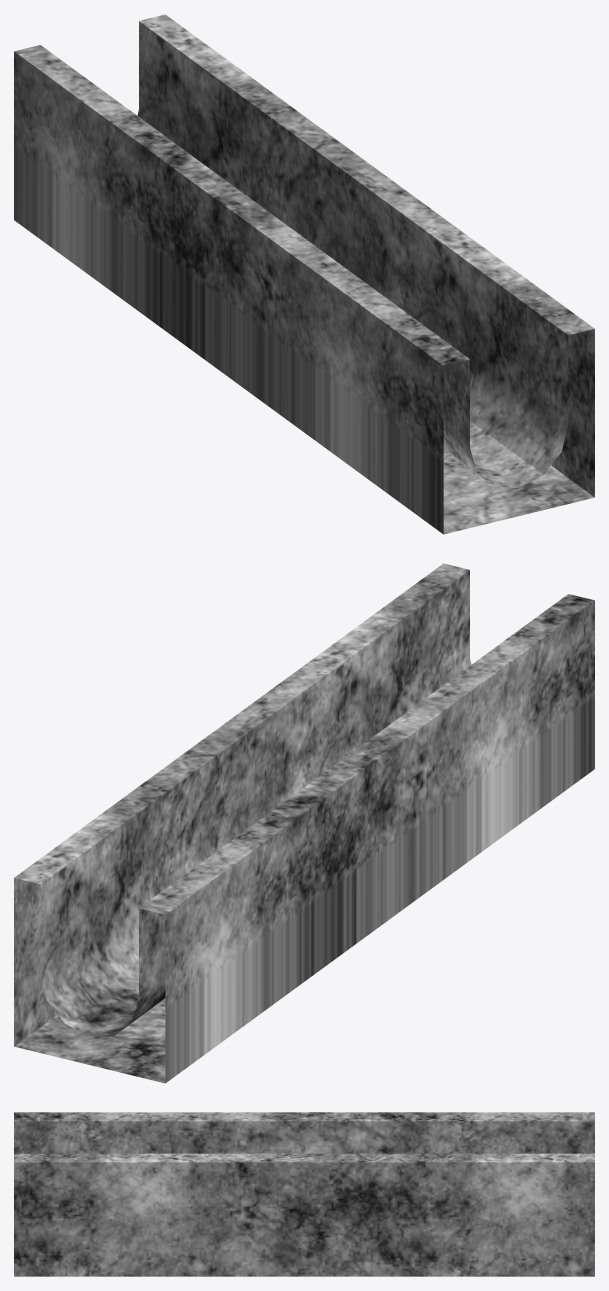
Rendered from Drain_shelterDefault.fbx.
The picture shows the model from 3 angles, top to bottom: view 1: azimuth 30°, elevation 25°; view 2: azimuth 150°, elevation 25°; view 3: azimuth 270°, elevation 25°; orthographic projection. The views are drawn at different scales.
Visible parts, largest first — view 1: drain_shelter_doneExport; view 2: drain_shelter_doneExport; view 3: drain_shelter_doneExport.
Boxes of the visible parts, x1,y1,x2,y2 form: drain_shelter_doneExport: (14,14,594,534); drain_shelter_doneExport: (14,563,594,1083); drain_shelter_doneExport: (14,1112,594,1276).
Bounding box in the file's own units: 48.08 × 51.19 × 236.
Materials: 1 (1 with a texture image).
